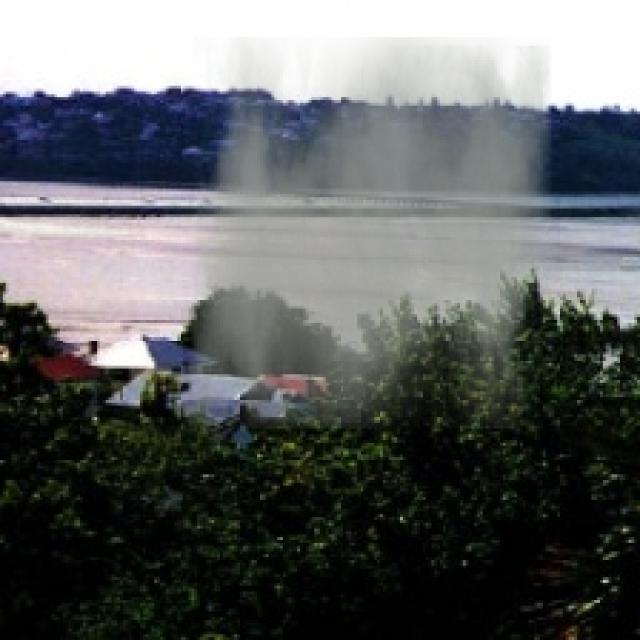Smoke: (192, 37, 552, 429)
